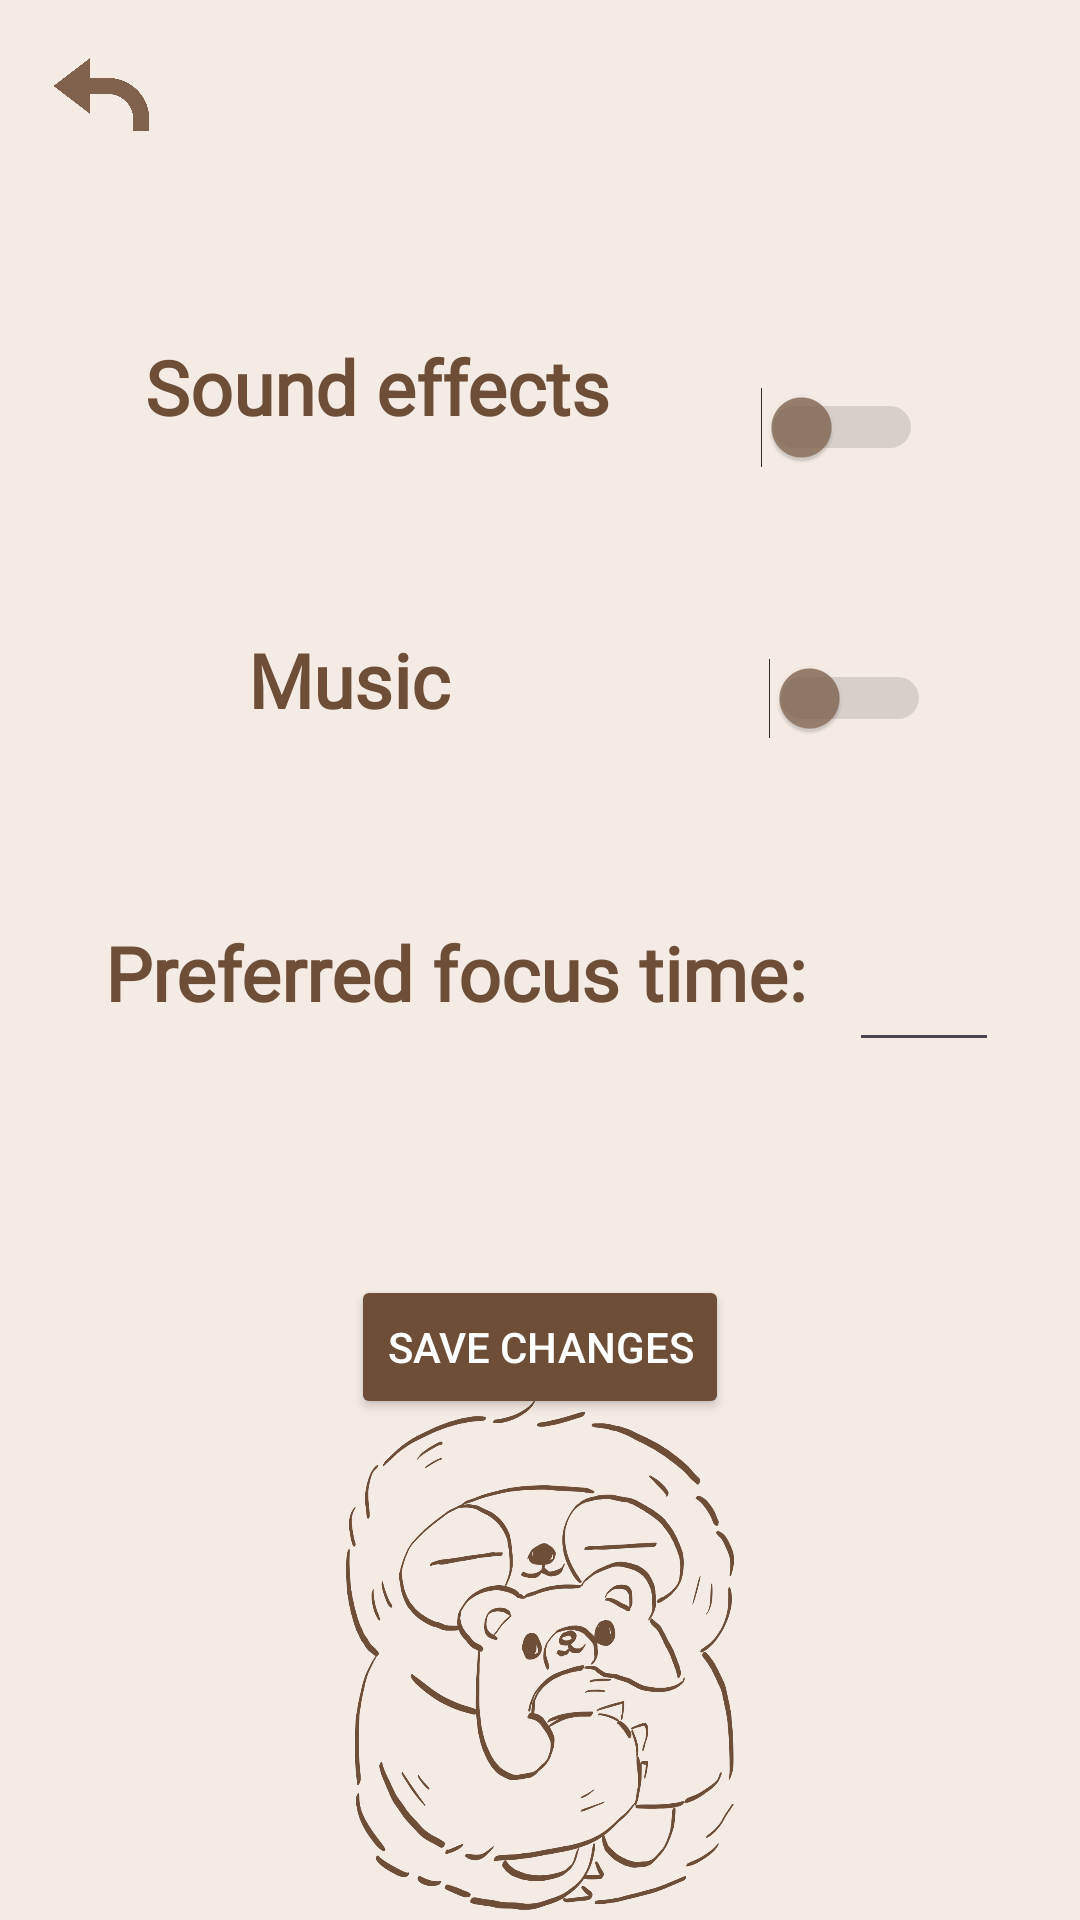

Point at icon controls on the screen. Image size 1080×1920, points as (x,y).
back arrow: (101,94)
